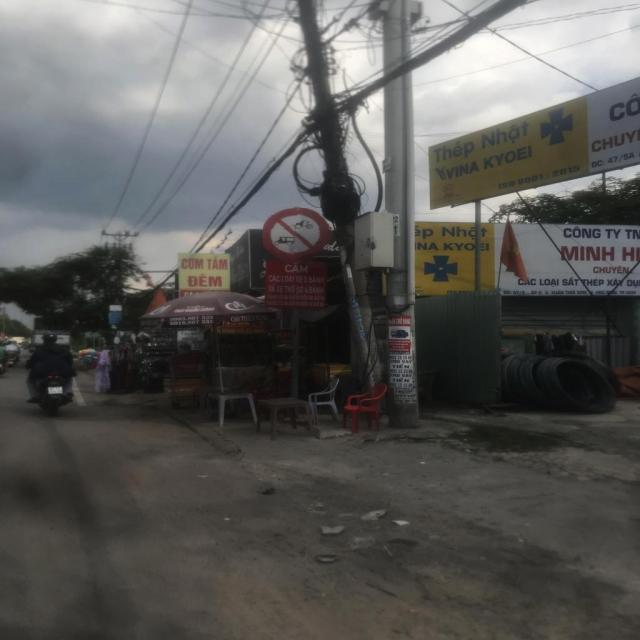cam_cac_loai_xe_3_banh: (263, 208, 332, 261)
